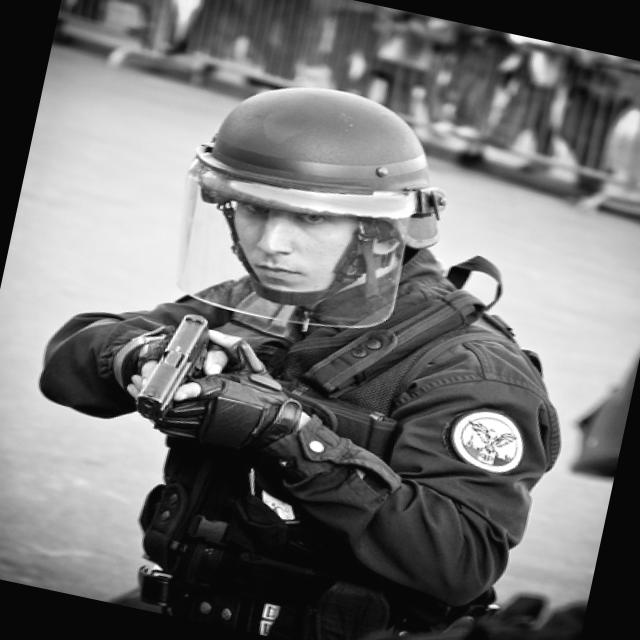handgun: (129, 304, 217, 432)
